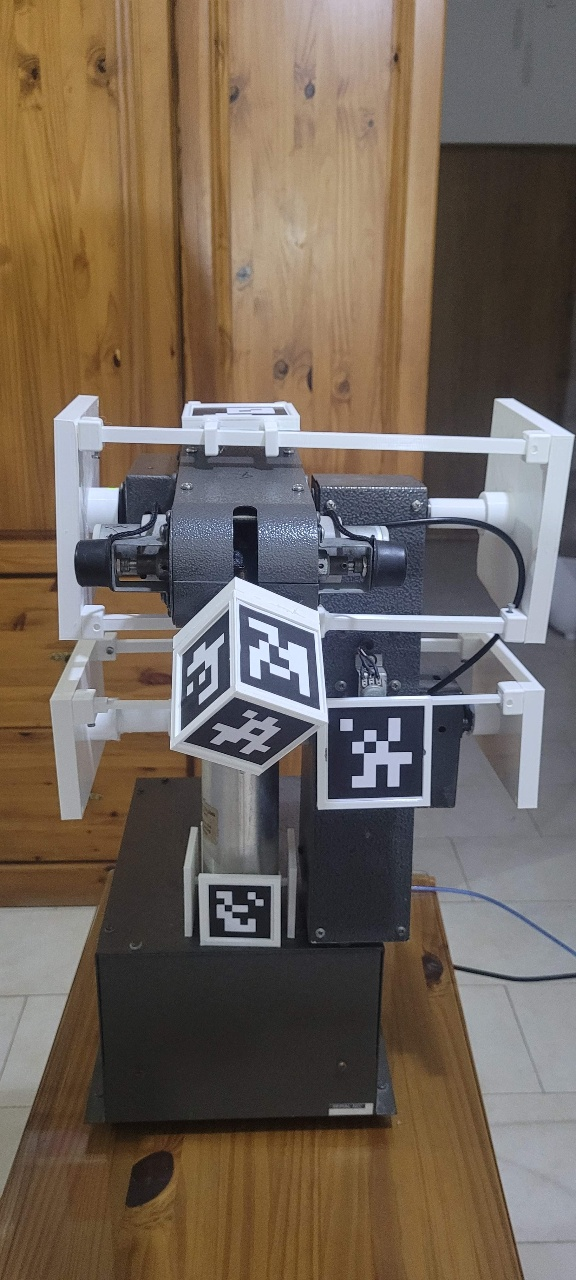Robot: (32, 239, 449, 866)
